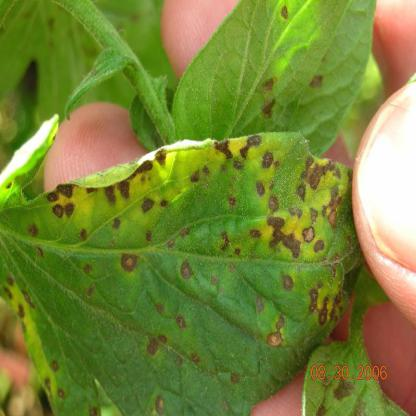Tomato Septoria leaf spot: (2, 144, 361, 393)
